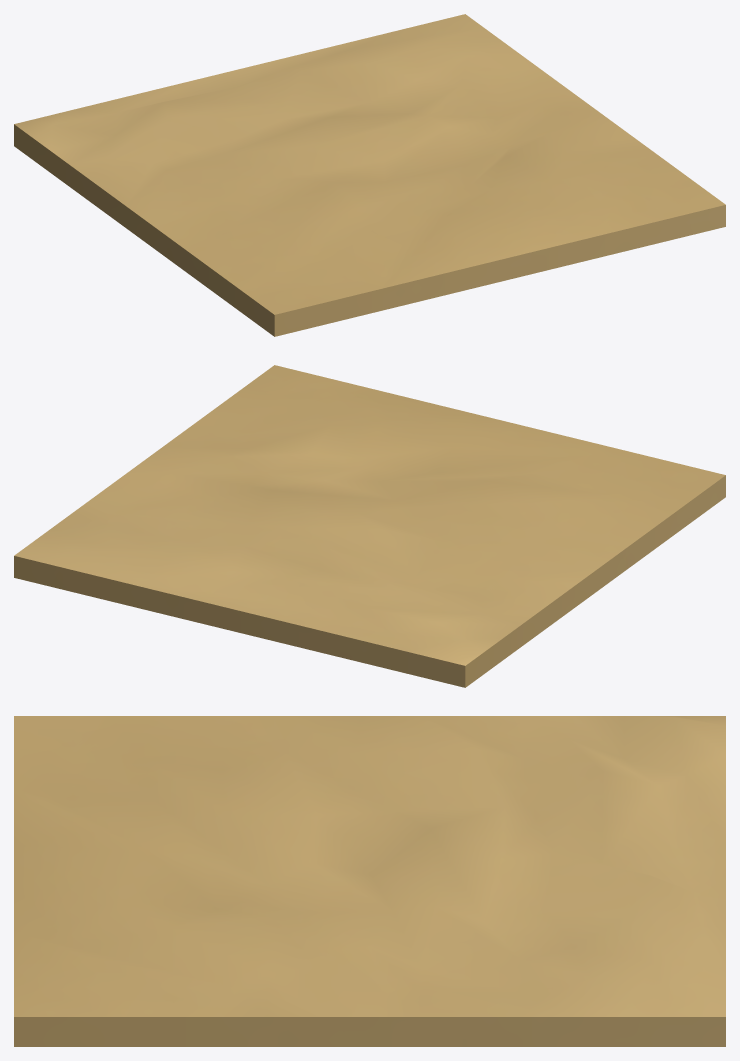
File: ground_2.glb
3 views of the same model, one above another, from view 1: azimuth 30°, elevation 25°; view 2: azimuth 150°, elevation 25°; view 3: azimuth 270°, elevation 25° (orthographic). The views are drawn at different scales.
Visible parts, largest first — view 1: ground_2; view 2: ground_2; view 3: ground_2.
Boxes of the visible parts, x1,y1,x2,y2 form: ground_2: (14, 14, 725, 336); ground_2: (14, 365, 725, 687); ground_2: (14, 716, 725, 1046).
Size of the model in its own units: 2 by 0.1481 by 2.
1 material, 1 textured.
